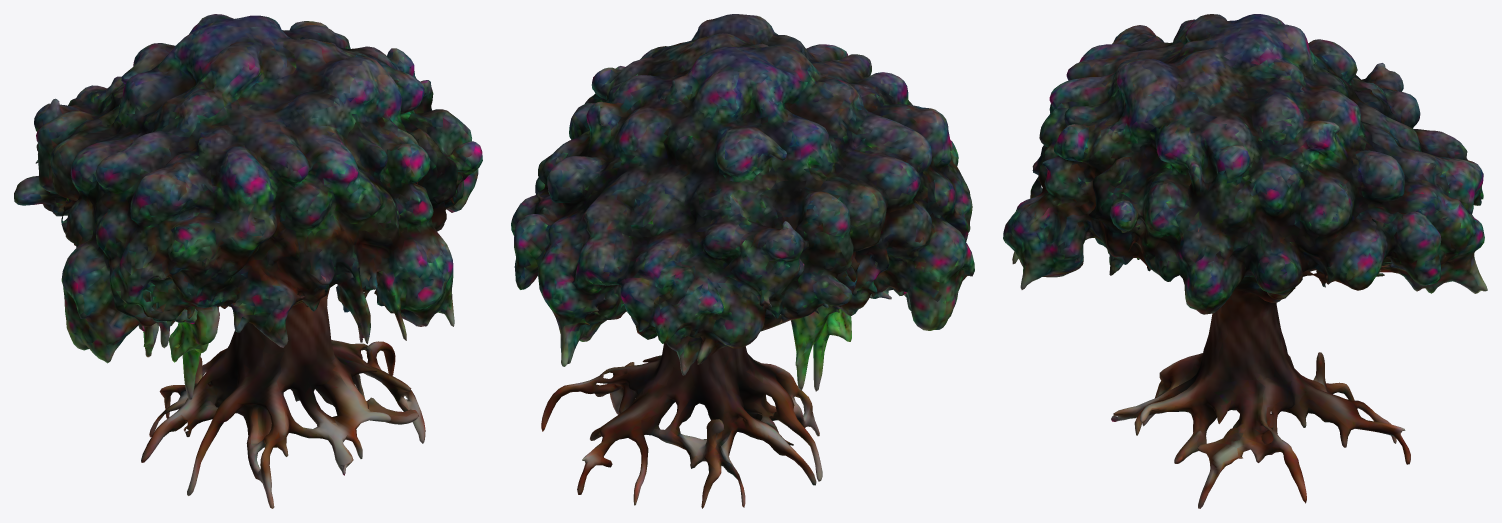
The model's file is eyetree.glb.
The picture shows the model from 3 angles, left to right: view 1: azimuth 30°, elevation 25°; view 2: azimuth 150°, elevation 25°; view 3: azimuth 270°, elevation 25°; orthographic projection. The views are drawn at different scales.
Visible parts, largest first — view 1: high_poly; view 2: high_poly; view 3: high_poly.
Part boxes in pixels (<box>): high_poly: <box>14,14,482,508</box>; high_poly: <box>511,14,974,508</box>; high_poly: <box>1003,14,1487,508</box>.
Size of the model in its own units: 0.9362 by 0.9556 by 1.
1 material, 1 textured.
